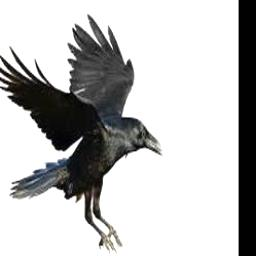Crow: (0, 14, 162, 250)
